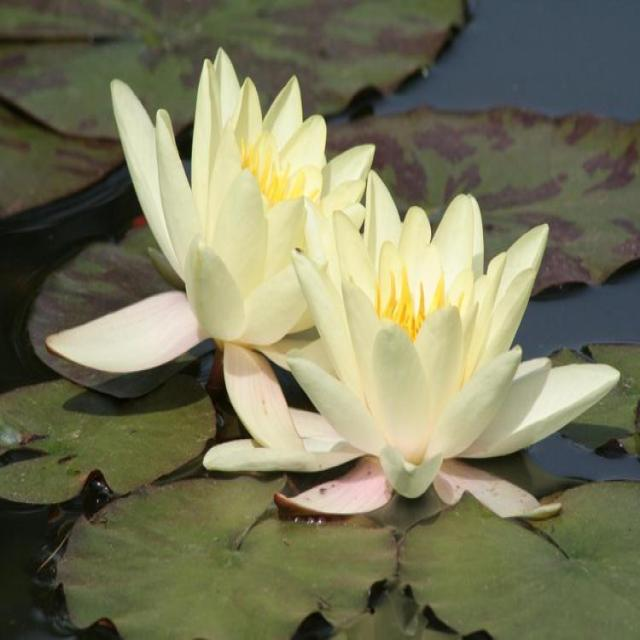water-lily: (305, 183, 577, 538), (125, 64, 335, 374)
